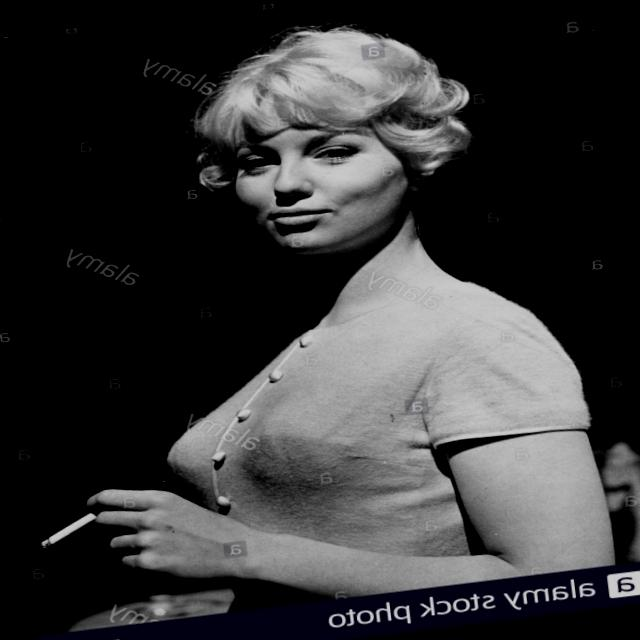cigarette: (33, 506, 100, 554)
